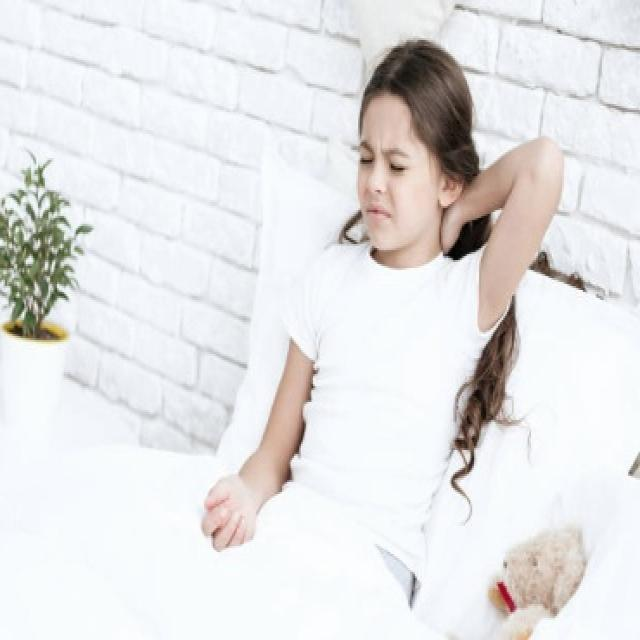child: (196, 38, 578, 568)
